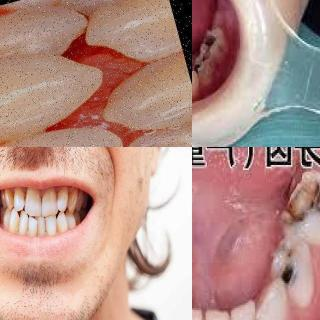cavities: (281, 178, 320, 238), (269, 250, 301, 292), (199, 33, 224, 57), (194, 53, 216, 75)
maligned: (40, 188, 58, 216), (6, 208, 20, 236), (17, 211, 29, 235), (26, 218, 40, 237)
stains: (7, 188, 16, 204), (20, 191, 28, 205)
